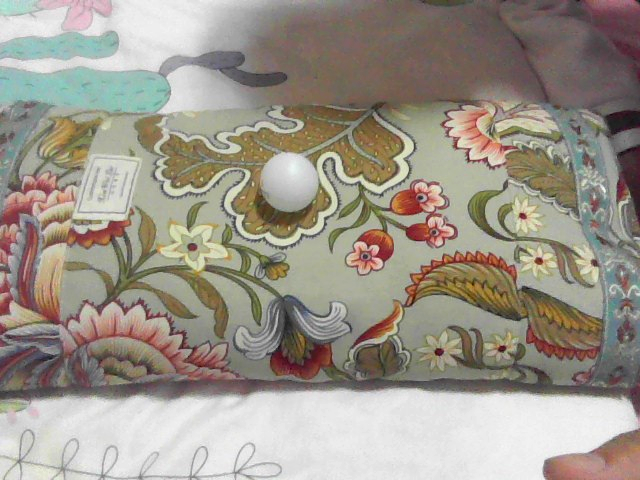ball: (258, 150, 319, 208)
